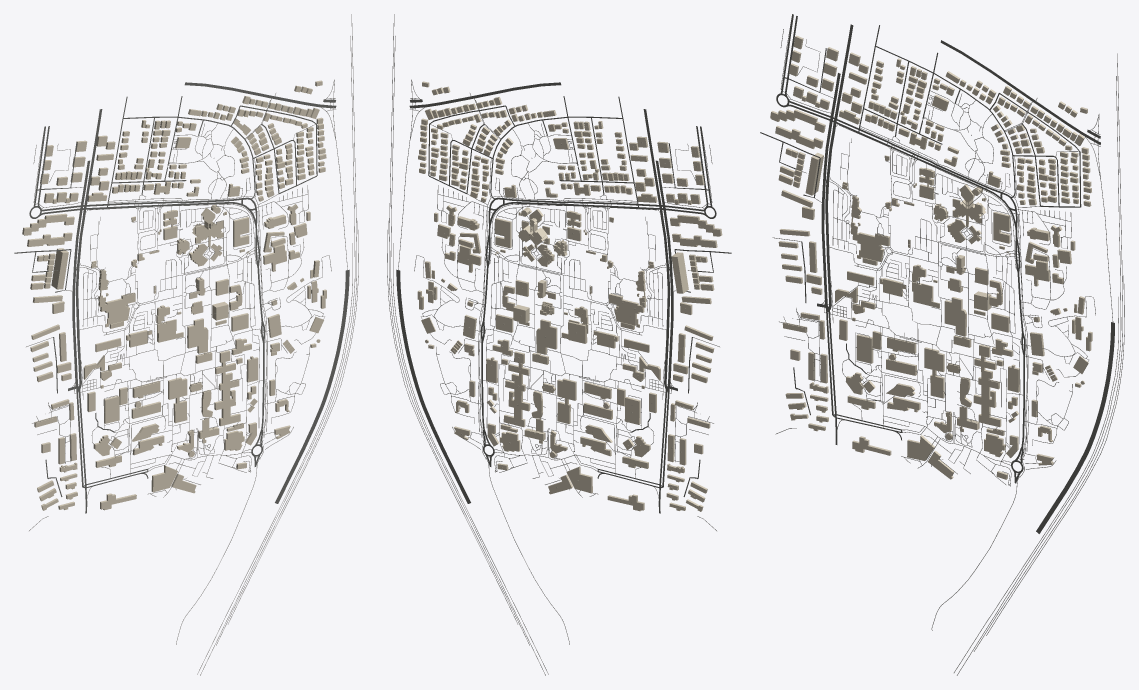
Rendered from historic-palestine-06_27_3480_3211.glb.
3 views of the same model, side by side, from view 1: azimuth 30°, elevation 25°; view 2: azimuth 150°, elevation 25°; view 3: azimuth 330°, elevation 25° (orthographic). The views are drawn at different scales.
Visible parts, largest first — view 1: Road איילון דרום, Building_.004, Road מסילת החוף, Road מסילת החוף.002, Building_.002, Road חיים לבנון.001, Road שדרות קק"ל, Building_.120; view 2: Road איילון דרום, Building_.004, Road מסילת החוף, Road מסילת החוף.002, Building_.002, Road חיים לבנון.001, Road שדרות קק"ל, Building_.120; view 3: Road איילון דרום, Building_.004, Road מסילת החוף, Road מסילת החוף.002, Building_.002, Road חיים לבנון.001, Road שדרות קק"ל, Building_.115, Road חיים לבנון.002.
Part boxes in pixels (left/top/right/bottom): Road איילון דרום: left=275, top=269, right=349, bottom=503; Building_.004: left=168, top=377, right=187, bottom=423; Road מסילת החוף: left=200, top=36, right=355, bottom=675; Road מסילת החוף.002: left=216, top=14, right=356, bottom=645; Building_.002: left=187, top=318, right=208, bottom=353; Road חיים לבנון.001: left=72, top=210, right=82, bottom=378; Road שדרות קק"ל: left=184, top=82, right=333, bottom=108; Building_.120: left=51, top=248, right=68, bottom=289; Road איילון דרום: left=396, top=269, right=470, bottom=503; Building_.004: left=557, top=378, right=576, bottom=423; Road מסילת החוף: left=390, top=36, right=545, bottom=675; Road מסילת החוף.002: left=389, top=14, right=529, bottom=645; Building_.002: left=536, top=319, right=557, bottom=354; Road חיים לבנון.001: left=663, top=210, right=673, bottom=378; Road שדרות קק"ל: left=412, top=82, right=561, bottom=108; Building_.120: left=671, top=252, right=688, bottom=293; Road איילון דרום: left=1036, top=322, right=1114, bottom=533; Building_.004: left=924, top=347, right=944, bottom=398; Road מסילת החוף: left=957, top=76, right=1121, bottom=675; Road מסילת החוף.002: left=974, top=53, right=1122, bottom=651; Building_.002: left=944, top=297, right=966, bottom=336; Road חיים לבנון.001: left=821, top=121, right=832, bottom=296; Road שדרות קק"ל: left=940, top=40, right=1097, bottom=143; Building_.115: left=770, top=109, right=825, bottom=132; Road חיים לבנון.002: left=825, top=149, right=831, bottom=309.
Bounding box in the file's own units: 1072 × 1859 × 34.76.
